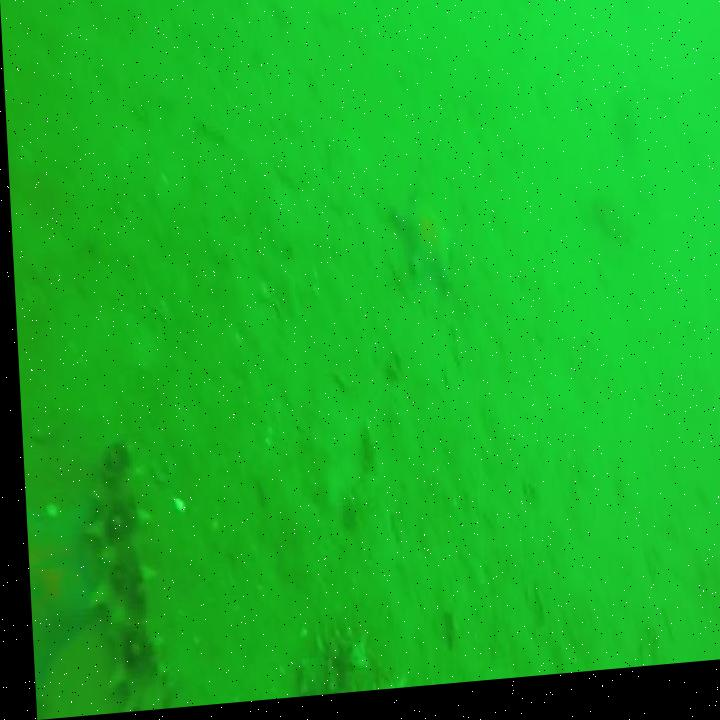holothurian: (71, 432, 162, 716), (288, 626, 404, 701)
starfish: (388, 191, 455, 295)
